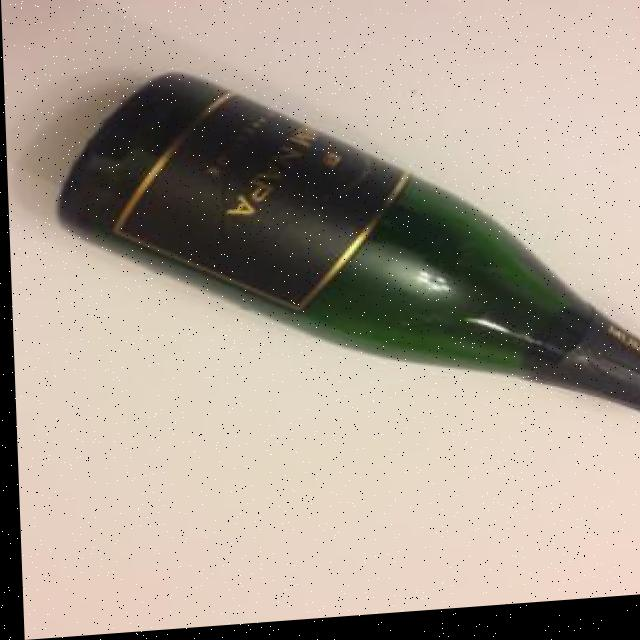glass: (34, 39, 640, 505)
